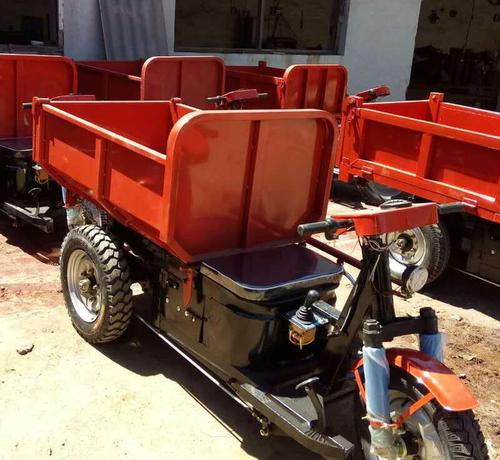tricycle: (32, 73, 483, 460)
